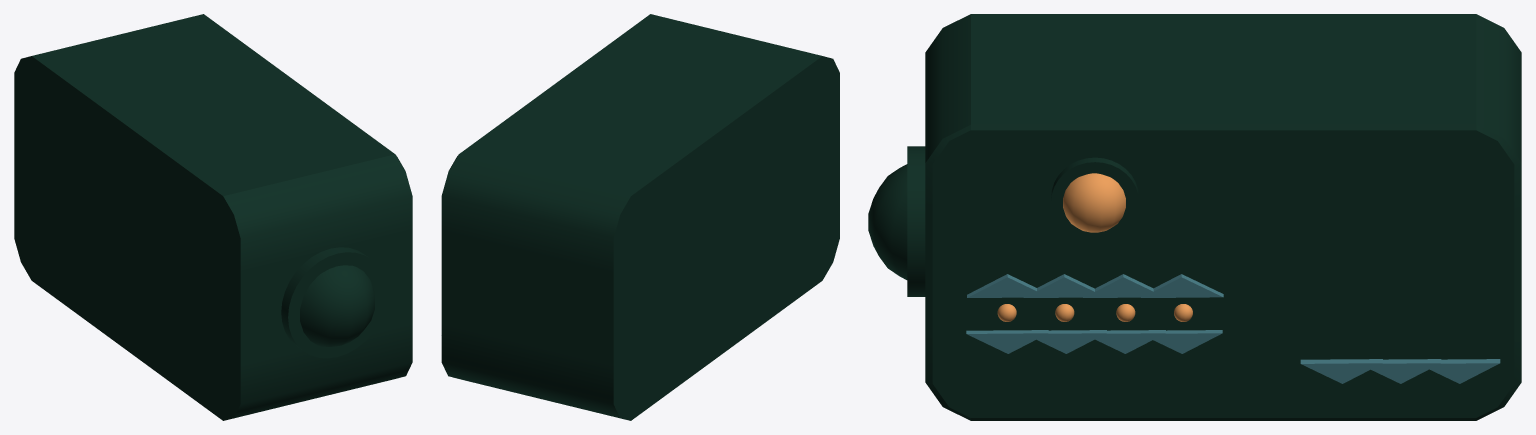
Rendered from Generator.fbx.
The picture shows the model from 3 angles, left to right: view 1: azimuth 30°, elevation 25°; view 2: azimuth 150°, elevation 25°; view 3: azimuth 270°, elevation 25°; orthographic projection. The views are drawn at different scales.
Visible parts, largest first — view 1: generator; view 2: generator; view 3: generator, light5, ChangeButton1, DownButton1, UpButton4, UpButton1, ChangeButton2, DownButton3, ChangeButton3, DownButton4, UpButton3, UpButton2 (+1 smaller).
Boxes of the visible parts, x1,y1,x2,y2 form: generator: (14,14,412,420); generator: (441,14,839,420); generator: (868,14,1521,420); light5: (1063,173,1125,232); ChangeButton1: (1300,359,1382,383); DownButton1: (966,330,1048,353); UpButton4: (1141,274,1223,297); UpButton1: (967,274,1048,297); ChangeButton2: (1360,359,1441,383); DownButton3: (1084,330,1165,353); ChangeButton3: (1429,359,1500,383); DownButton4: (1142,330,1222,353); UpButton3: (1083,274,1153,297); UpButton2: (1024,274,1094,297).
Bounding box in the file's own units: 304 × 332 × 664.
